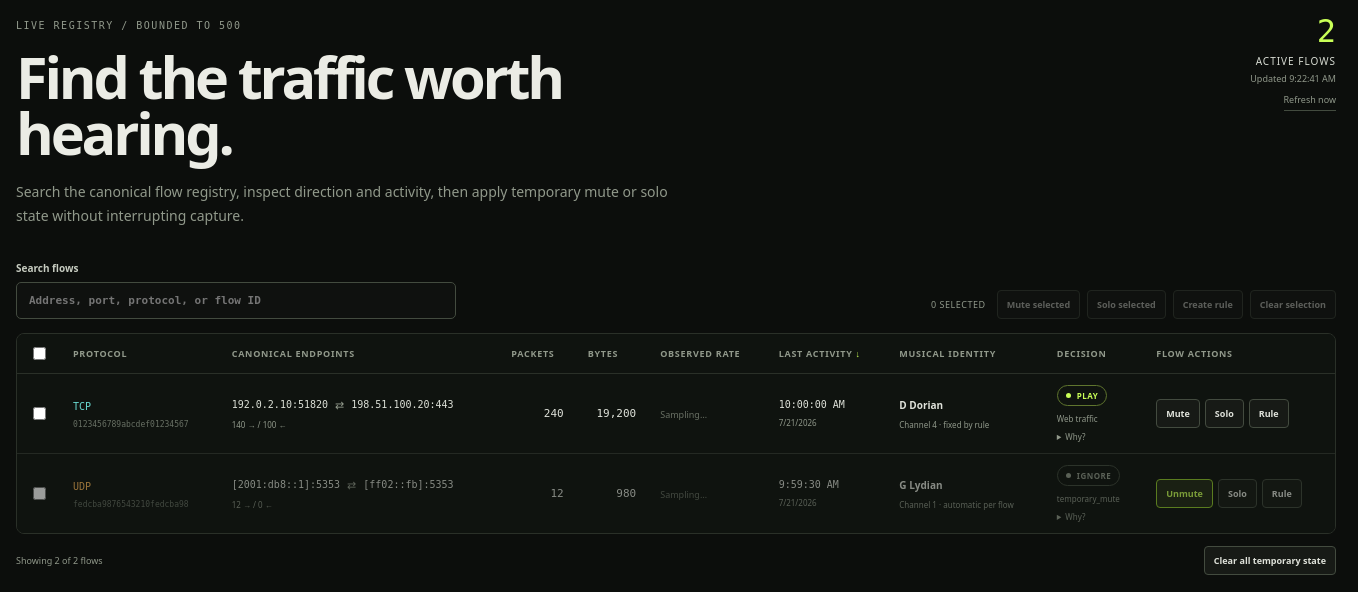
Test: flow explorer › derives observed rates from successive authoritative counters
Check: the text "0123456789abcdef01234567" is shown, box [73,420,208,430]
Click the button "Refresh now".
click(1310, 100)  # box [1284,89,1336,111]
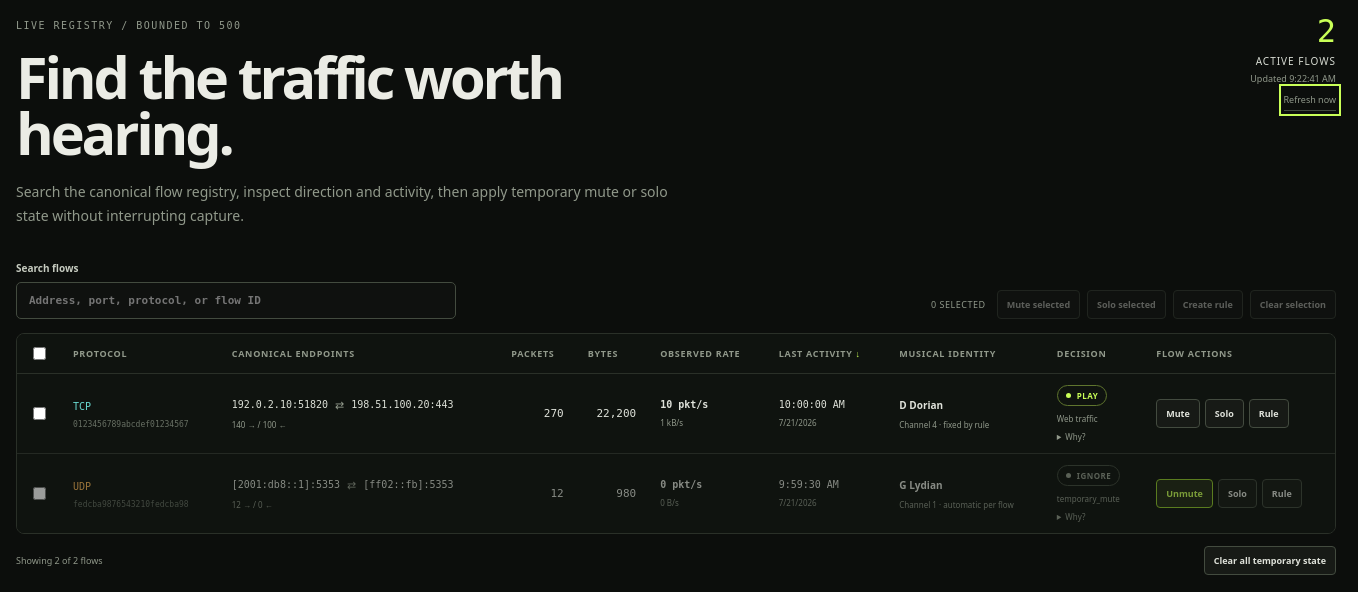
Check: the text "10 pkt/s" is shown, box [660,400,708,410]
Check: the text "1 kB/s" is shown, box [660,418,683,428]
